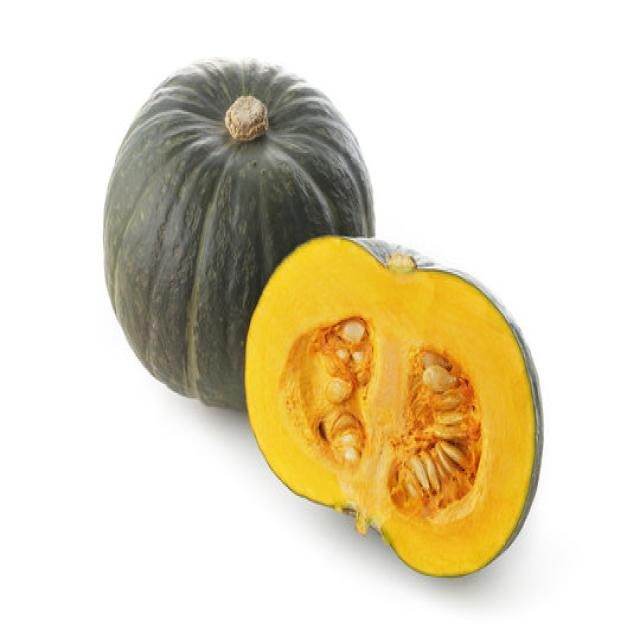Pumpkin: (243, 231, 544, 578), (100, 55, 376, 413)
